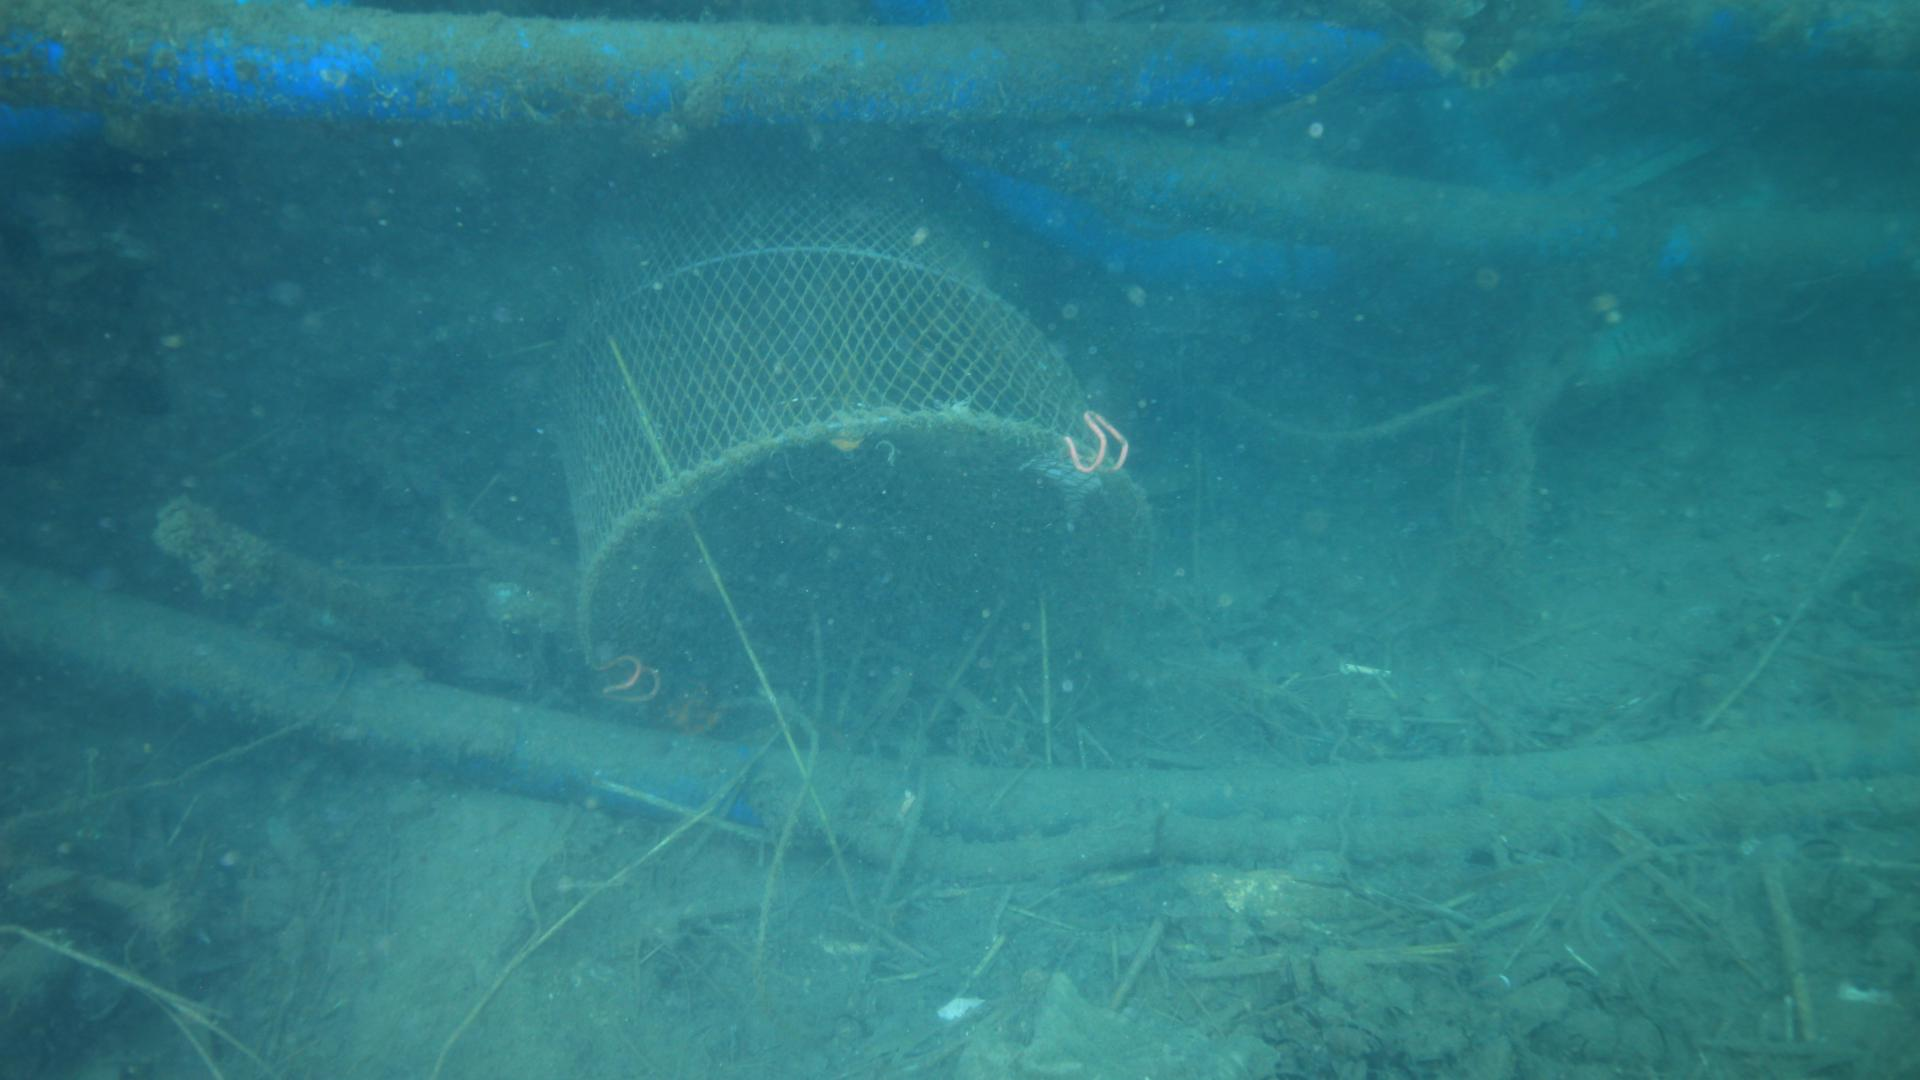spring fish trap: (559, 148, 1156, 731)
